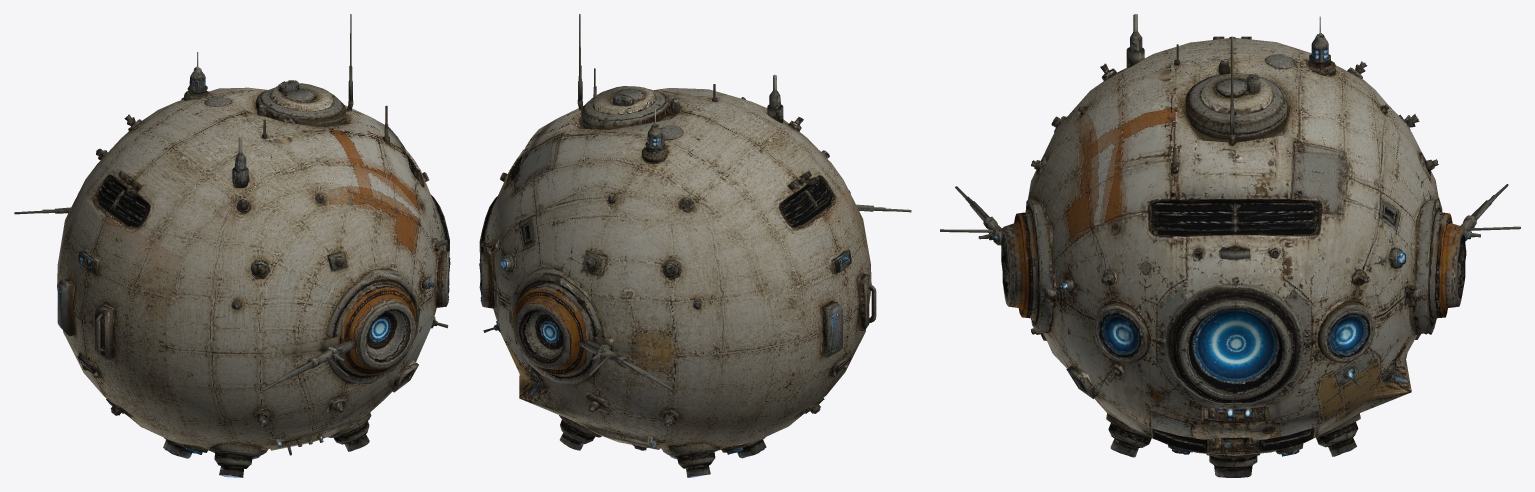
The model's file is robot4_tiny.glb.
The picture shows the model from 3 angles, left to right: view 1: azimuth 30°, elevation 25°; view 2: azimuth 150°, elevation 25°; view 3: azimuth 270°, elevation 25°; orthographic projection. The views are drawn at different scales.
Visible parts, largest first — view 1: tripo_node_119bb976-22b0-4e83-a8c7-d6b87d5e2c5e; view 2: tripo_node_119bb976-22b0-4e83-a8c7-d6b87d5e2c5e; view 3: tripo_node_119bb976-22b0-4e83-a8c7-d6b87d5e2c5e.
Boxes of the visible parts, box(x1,y1,x2,y2) form: tripo_node_119bb976-22b0-4e83-a8c7-d6b87d5e2c5e: box(14, 14, 450, 477); tripo_node_119bb976-22b0-4e83-a8c7-d6b87d5e2c5e: box(479, 14, 911, 477); tripo_node_119bb976-22b0-4e83-a8c7-d6b87d5e2c5e: box(940, 14, 1520, 477).
Bounding box in the file's own units: 0.7949 × 0.8887 × 0.998.
Materials: 1 (1 with a texture image).
